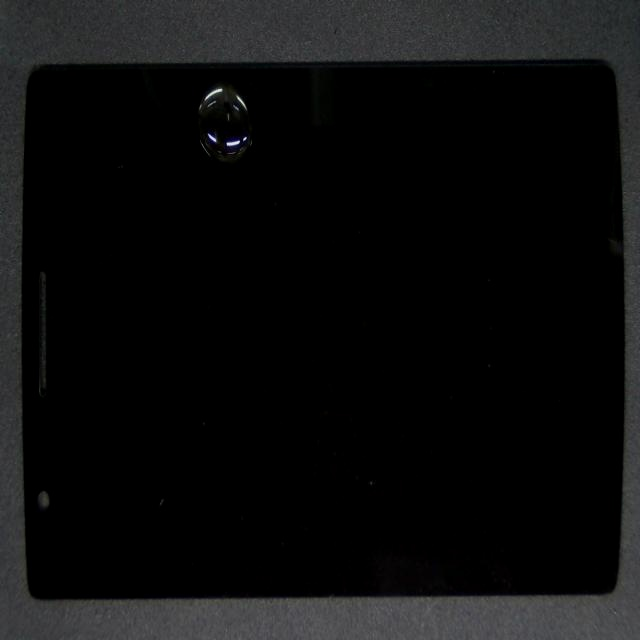oil: (137, 44, 347, 137)
